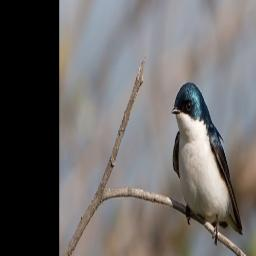Swallow: (172, 81, 244, 248)
